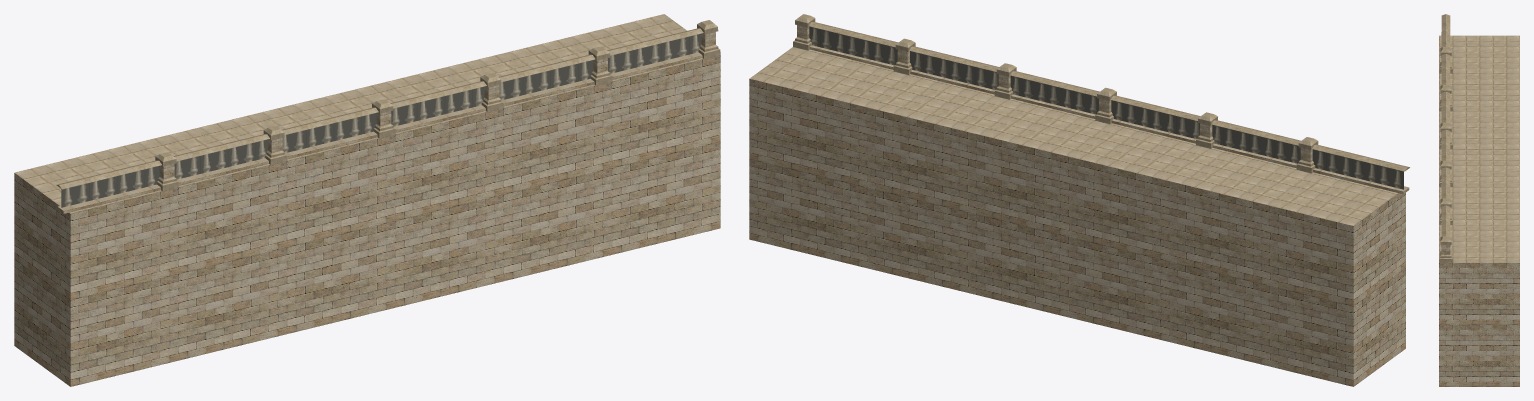
File: thm_nboo_thed_imprv_seawall_straight_s01_3seg_l0.fbx
The picture shows the model from 3 angles, left to right: view 1: azimuth 30°, elevation 25°; view 2: azimuth 150°, elevation 25°; view 3: azimuth 270°, elevation 25°; orthographic projection. The views are drawn at different scales.
Visible parts, largest first — view 1: mesh_node; view 2: mesh_node; view 3: mesh_node.
Part boxes in pixels (<box>): mesh_node: <box>14,14,720,386</box>; mesh_node: <box>749,14,1409,386</box>; mesh_node: <box>1439,14,1519,386</box>.
Size of the model in its own units: 24.24 by 7.2 by 3.6.
